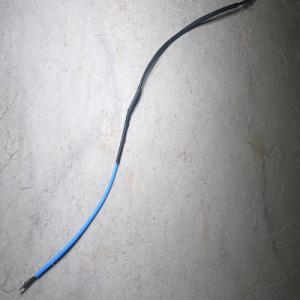Wire: (18, 0, 255, 293)
